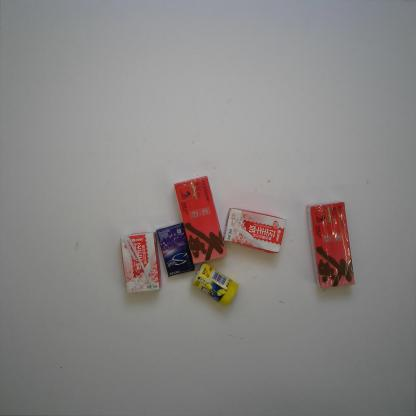Gum: (189, 262, 241, 308), (156, 220, 195, 280)
Instant Drink: (172, 174, 228, 266), (305, 198, 359, 292)
Milk: (221, 205, 287, 257), (119, 230, 164, 296)
